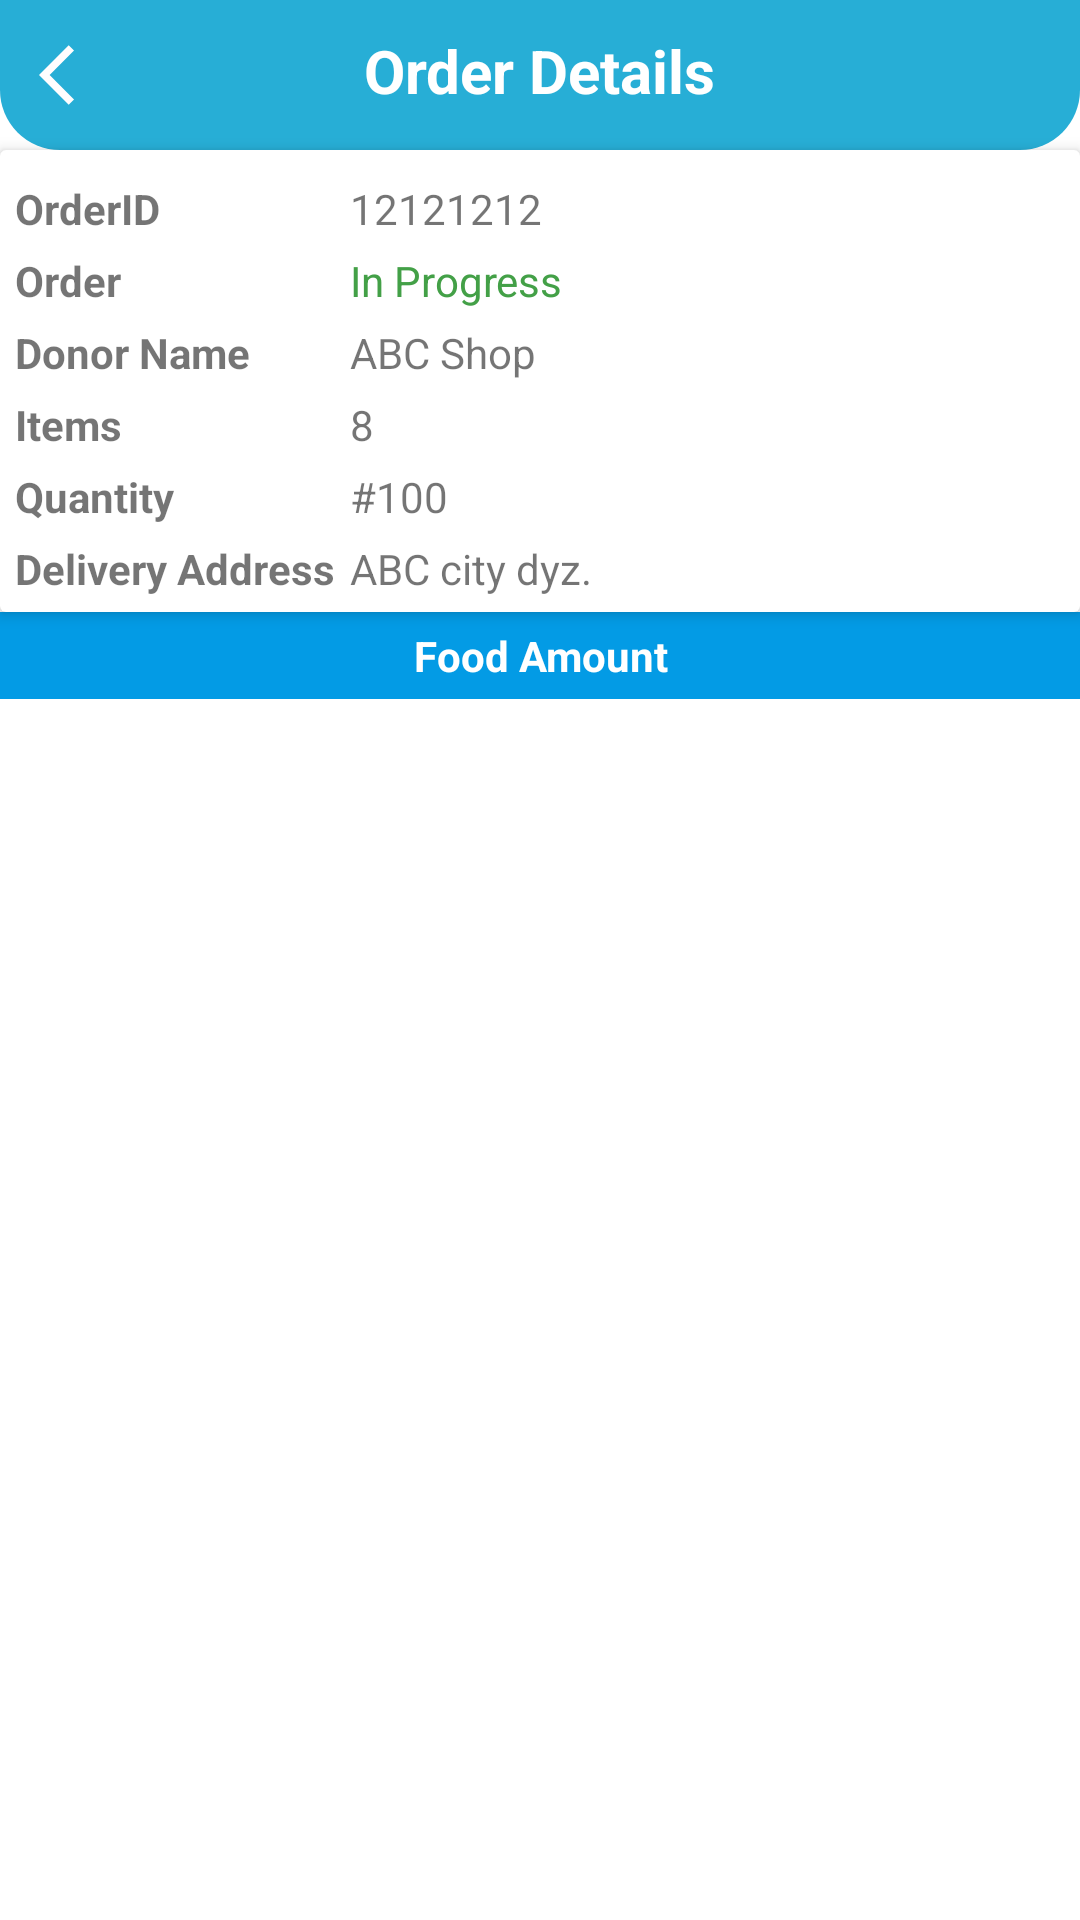

Icon click points for this 1080×1920 phone screenshot, format (x,y):
back: (56,75)
